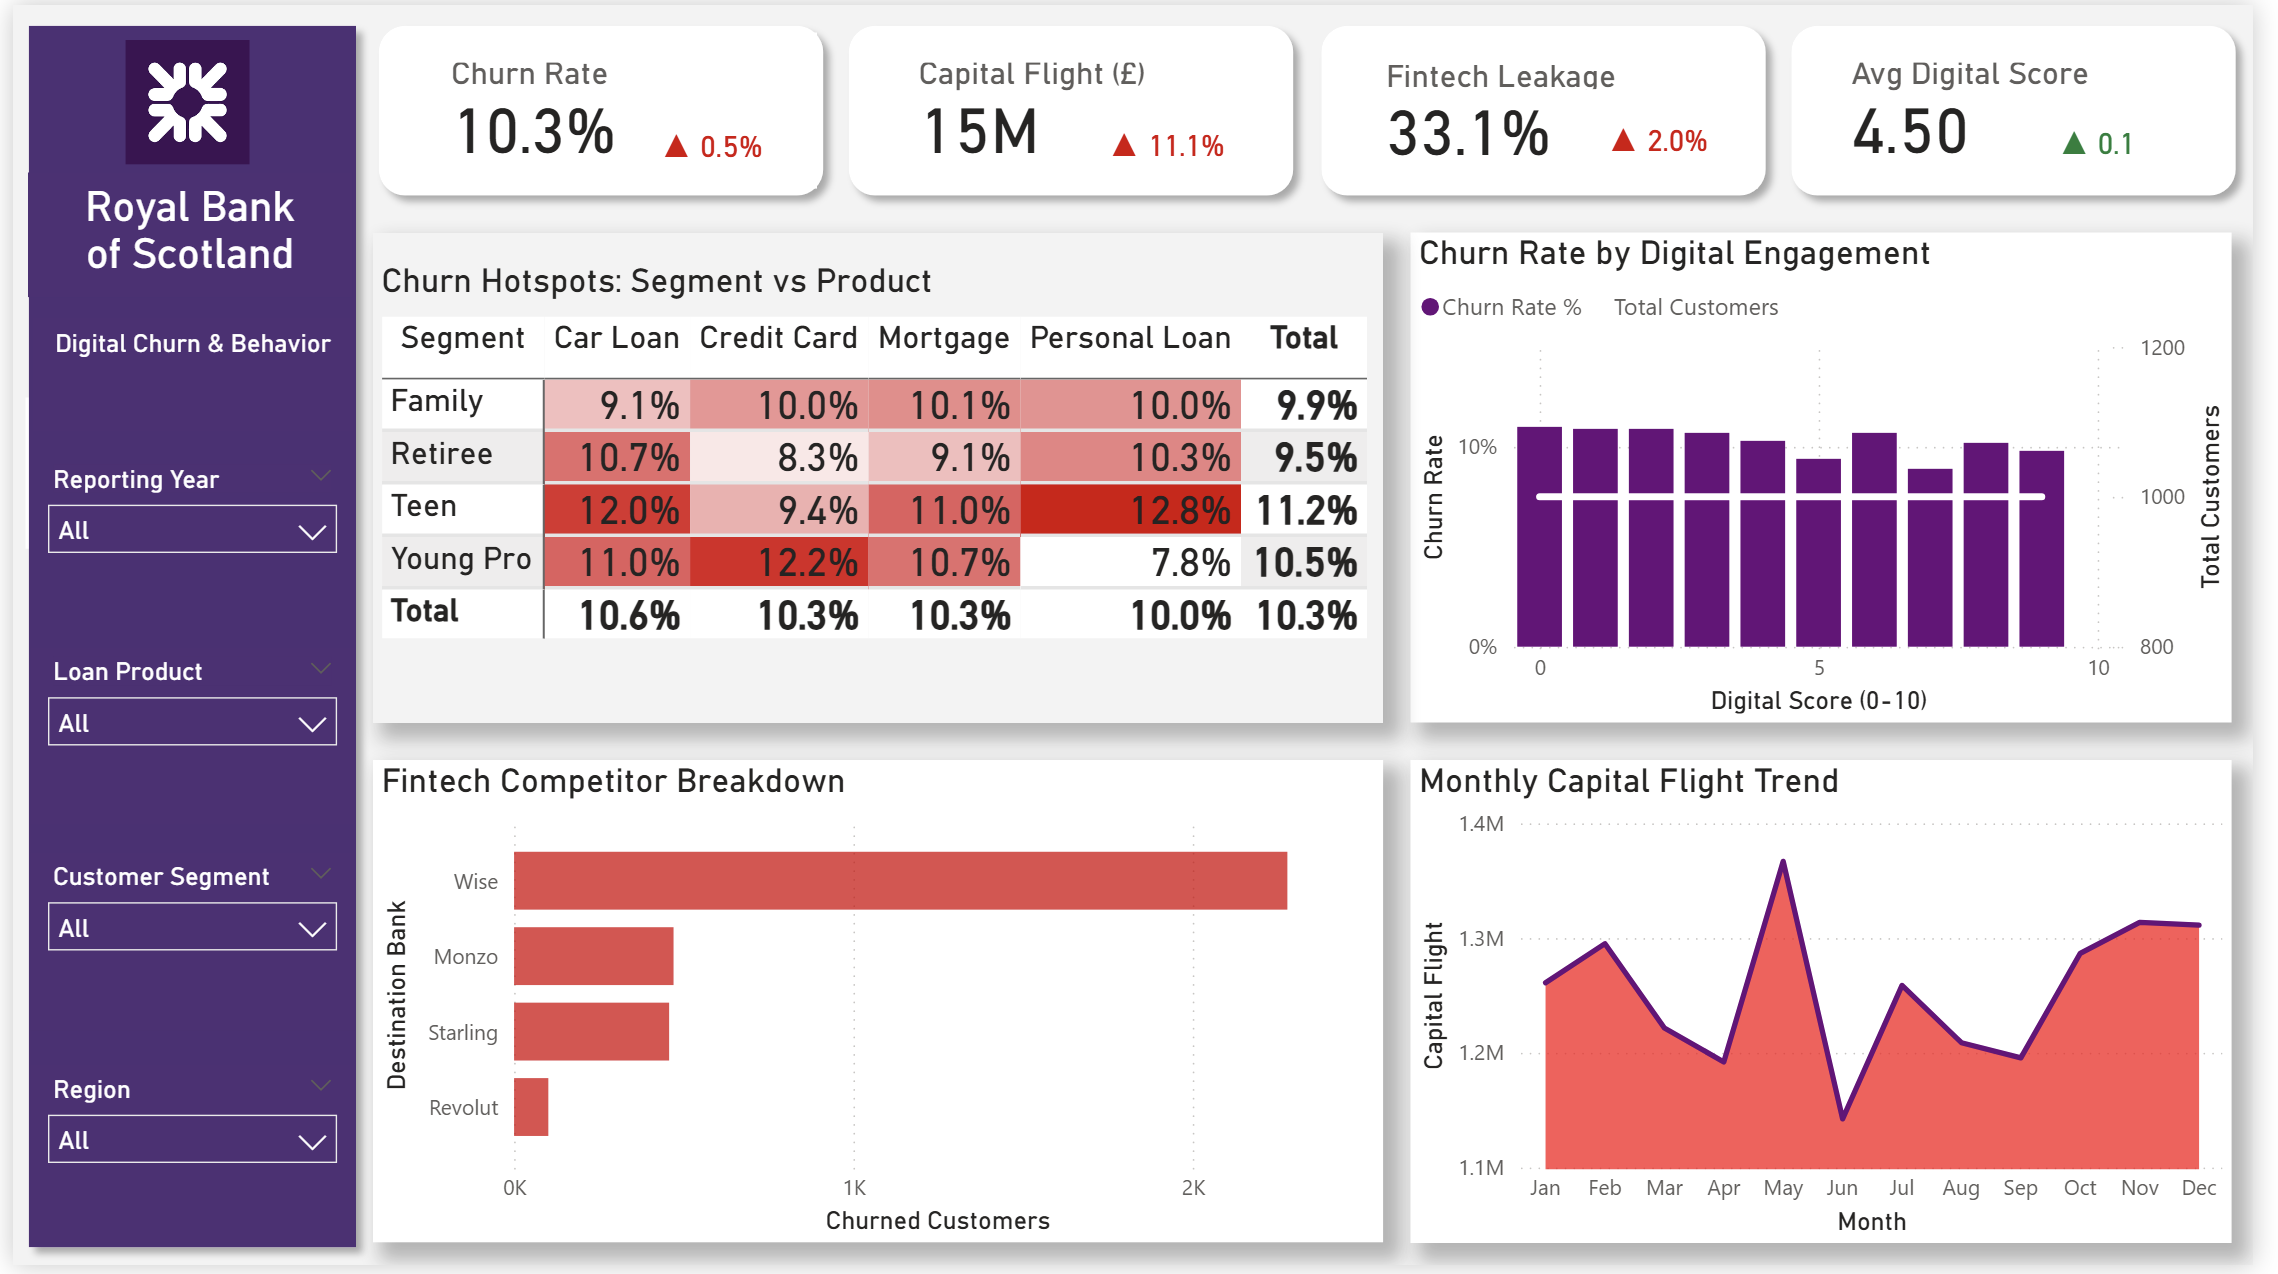

The page's visual inventory and layout, read from the dashboard file:
{"tool":"powerbi","page":{"name":"Digital Churn & Behavior","canvas":[1280,720],"ordinal":2},"visuals":[{"type":"slicer","fields":{"Values":["Dim_Calendar_Lookup.Year"]},"box":[7,223.6,149.7,86.3],"z":0},{"type":"slicer","fields":{"Values":["Risk Focus.Risk View"]},"box":[24.6,49.3,149.7,86.3],"z":1000},{"type":"shape","box":[0,3,205,716],"z":2000},{"type":"textbox","box":[12,178,183,65],"z":3000},{"type":"image","box":[6.8,20.3,185,71],"z":4000},{"type":"textbox","box":[9,95,185,71.2],"z":5000},{"type":"shape","box":[200,3,272,115],"z":6000},{"type":"shape","box":[469,3,272,115],"z":7000},{"type":"shape","box":[738,3,272,115],"z":8000},{"type":"shape","box":[1007,3,272,115],"z":9000},{"type":"cardVisual","fields":{"Data":["Fct_Capital_Flight_Transactions.Churn Rate %"]},"box":[221,16,238,89],"z":10000},{"type":"cardVisual","fields":{"Data":["Fct_Capital_Flight_Transactions.Churn Trend Icon"]},"box":[340.7,47.2,118.1,65],"z":11000},{"type":"cardVisual","fields":{"Data":["Fct_Capital_Flight_Transactions.Capital Flight final"]},"box":[489,16,238,89],"z":12000},{"type":"cardVisual","fields":{"Data":["Fct_Capital_Flight_Transactions.Fintech Migration %"]},"box":[755.9,16.9,238,89],"z":13000},{"type":"cardVisual","fields":{"Data":["Avg(Dim_Customer_Registry.Digital Score Fixed)"]},"box":[1022,16,238,89],"z":14000},{"type":"cardVisual","fields":{"Data":["Fct_Capital_Flight_Transactions.Capital Flight Trend Icon"]},"box":[591,45.8,135,67.8],"z":15000},{"type":"cardVisual","fields":{"Data":["Fct_Capital_Flight_Transactions.Fintech Trend Icon"]},"box":[877.5,43.5,125,67],"z":16000},{"type":"cardVisual","fields":{"Data":["Dim_Customer_Registry.Digital Score Trend Icon"]},"box":[1120.3,44.1,141,67.8],"z":17000},{"type":"slicer","fields":{"Values":["Dim_Product_Catalogue.Loan_type"]},"box":[10,367.8,185,101],"z":18000},{"type":"slicer","fields":{"Values":["Dim_Calendar_Lookup.Year"]},"box":[10,257.6,185,101],"z":19000},{"type":"slicer","fields":{"Values":["Dim_Customer_Registry.Segment"]},"box":[10,484.7,185,101.7],"z":20000},{"type":"slicer","fields":{"Values":["Dim_Customer_Registry.Region"]},"box":[10,605.1,185,101.7],"z":21000},{"type":"clusteredBarChart","title":"Fintech Competitor Breakdown","fields":{"Category":["Fct_Capital_Flight_Transactions.Outbound Fixed"],"Y":["CountNonNull(Fct_Capital_Flight_Transactions.Customer_ID)"]},"box":[220.8,452.2,573.2,254.6],"z":22000},{"type":"lineClusteredColumnComboChart","title":"Churn Rate by Digital Engagement","fields":{"Y":["Fct_Capital_Flight_Transactions.Churn Rate %"],"Category":["Dim_Customer_Registry.Digital Score Fixed"],"Y2":["Dim_Customer_Registry.Total Customers"]},"box":[831.4,155.2,448.6,254.7],"z":23000},{"type":"areaChart","title":"Monthly Capital Flight Trend","fields":{"Category":["Dim_Calendar_Lookup.Short Month"],"Y":["Fct_Capital_Flight_Transactions.Capital Flight final"]},"box":[831.1,452.5,449.2,254.1],"z":24000},{"type":"pivotTable","title":"Churn Hotspots: Segment vs Product","fields":{"Rows":["Dim_Customer_Registry.Segment"],"Values":["Fct_Capital_Flight_Transactions.Churn Rate %"],"Columns":["Dim_Product_Catalogue.Loan_type"]},"box":[220.8,154.9,573.2,254.6],"z":25000}]}

Visuals, with their boxes in screenshot pixels (x1, y1, x2, y2), scaled from the page's 1280x720 canvas onto the 2278x1274 screenshot:
slicer - Dim_Calendar_Lookup.Year: crop(12, 396, 279, 548)
slicer - Risk Focus.Risk View: crop(44, 87, 310, 240)
shape: crop(0, 5, 365, 1272)
textbox: crop(21, 315, 347, 430)
image: crop(12, 36, 341, 162)
textbox: crop(16, 168, 345, 294)
shape: crop(356, 5, 840, 209)
shape: crop(835, 5, 1319, 209)
shape: crop(1313, 5, 1797, 209)
shape: crop(1792, 5, 2276, 209)
cardVisual - Fct_Capital_Flight_Transactions.Churn Rate %: crop(393, 28, 817, 186)
cardVisual - Fct_Capital_Flight_Transactions.Churn Trend Icon: crop(606, 84, 817, 199)
cardVisual - Fct_Capital_Flight_Transactions.Capital Flight final: crop(870, 28, 1294, 186)
cardVisual - Fct_Capital_Flight_Transactions.Fintech Migration %: crop(1345, 30, 1769, 187)
cardVisual - Avg(Dim_Customer_Registry.Digital Score Fixed): crop(1819, 28, 2242, 186)
cardVisual - Fct_Capital_Flight_Transactions.Capital Flight Trend Icon: crop(1052, 81, 1292, 201)
cardVisual - Fct_Capital_Flight_Transactions.Fintech Trend Icon: crop(1562, 77, 1784, 196)
cardVisual - Dim_Customer_Registry.Digital Score Trend Icon: crop(1994, 78, 2245, 198)
slicer - Dim_Product_Catalogue.Loan_type: crop(18, 651, 347, 830)
slicer - Dim_Calendar_Lookup.Year: crop(18, 456, 347, 635)
slicer - Dim_Customer_Registry.Segment: crop(18, 858, 347, 1038)
slicer - Dim_Customer_Registry.Region: crop(18, 1071, 347, 1251)
"Fintech Competitor Breakdown" clusteredBarChart: crop(393, 800, 1413, 1251)
"Churn Rate by Digital Engagement" lineClusteredColumnComboChart: crop(1480, 275, 2277, 725)
"Monthly Capital Flight Trend" areaChart: crop(1479, 801, 2277, 1250)
"Churn Hotspots: Segment vs Product" pivotTable: crop(393, 274, 1413, 725)
